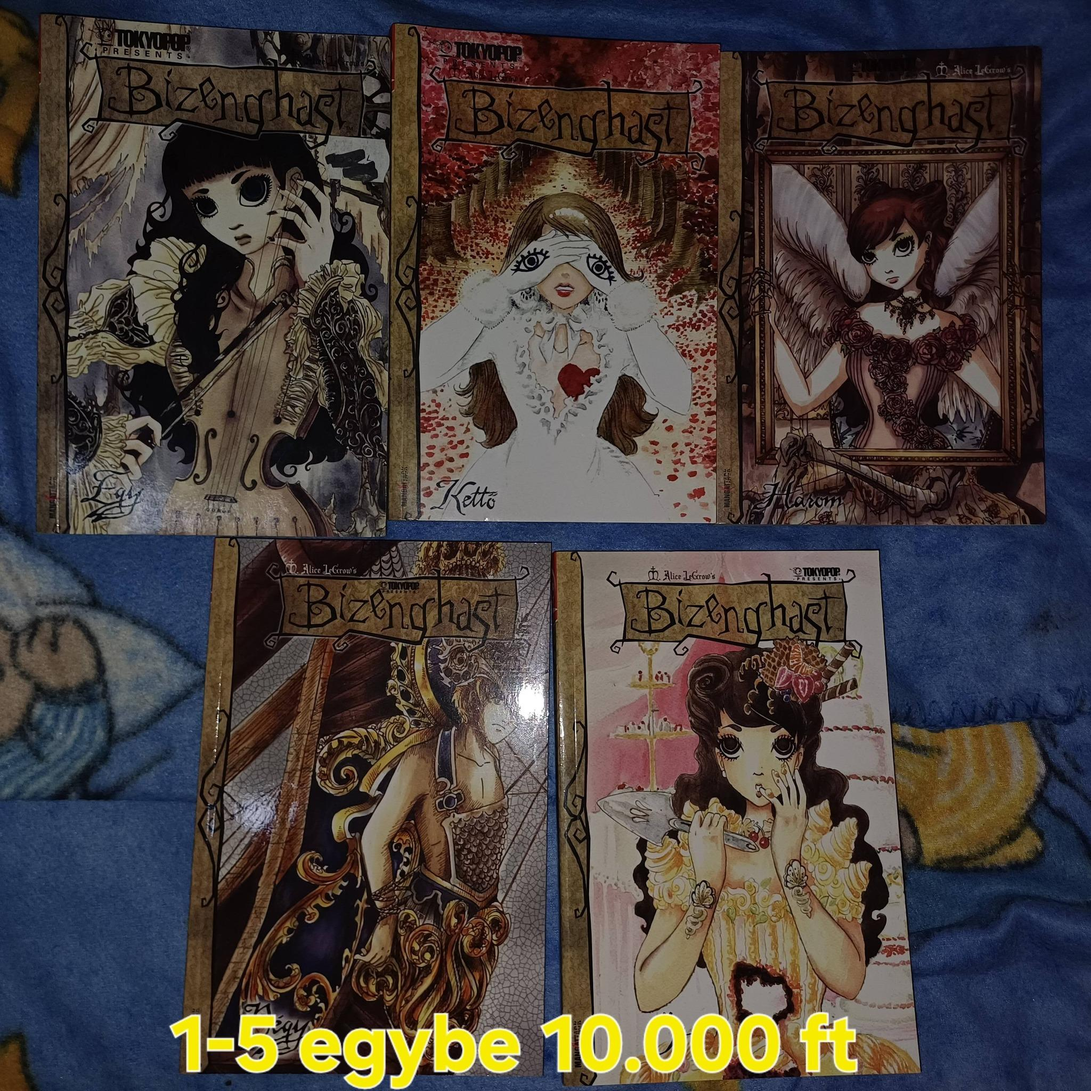comic: (182, 531, 560, 1079), (551, 544, 918, 1081), (35, 16, 392, 537), (391, 25, 720, 522), (727, 47, 1044, 524)
